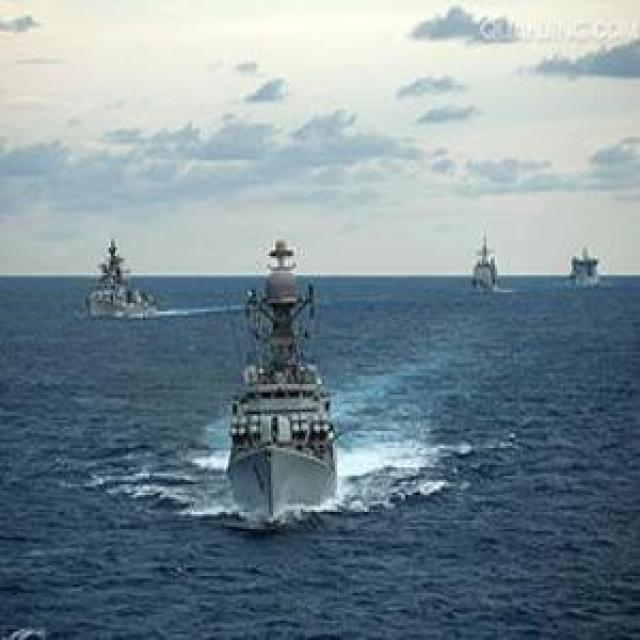navalvessels: (224, 231, 342, 522), (88, 232, 152, 316), (470, 222, 500, 294), (567, 243, 602, 291)
